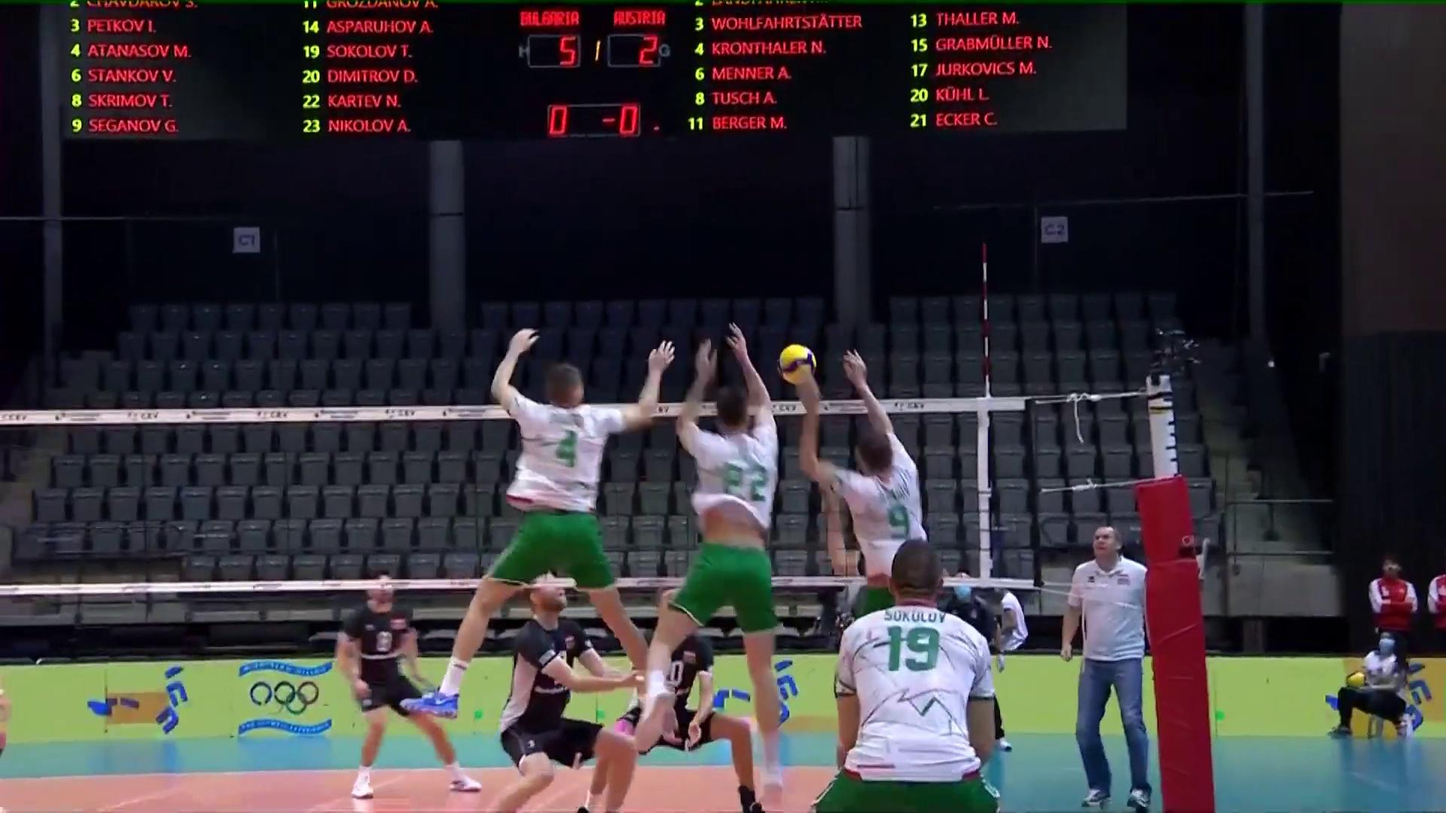ball: (776, 343, 820, 387)
